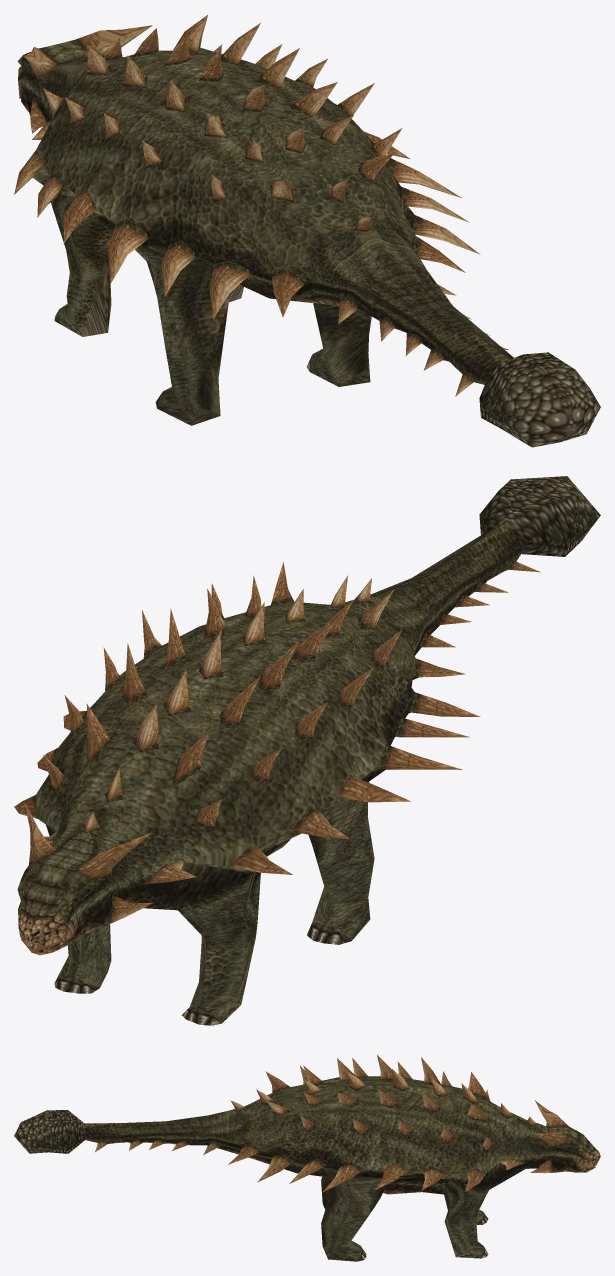
Rendered from dino_crisis_-_ankylosaurus.glb.
3 renders of one model, top to bottom at view 1: azimuth 30°, elevation 25°; view 2: azimuth 150°, elevation 25°; view 3: azimuth 270°, elevation 25°, orthographic. The views are drawn at different scales.
Parts seen in each view (by area): view 1: ankylosaurus; view 2: ankylosaurus; view 3: ankylosaurus.
Part boxes in pixels (box(x1,y1,x2,y2)): ankylosaurus: box(14, 15, 600, 447); ankylosaurus: box(14, 476, 600, 1025); ankylosaurus: box(14, 1055, 600, 1261).
Bounding box in the file's own units: 10.63 × 9.03 × 28.53.
Materials: 1 (1 with a texture image).
